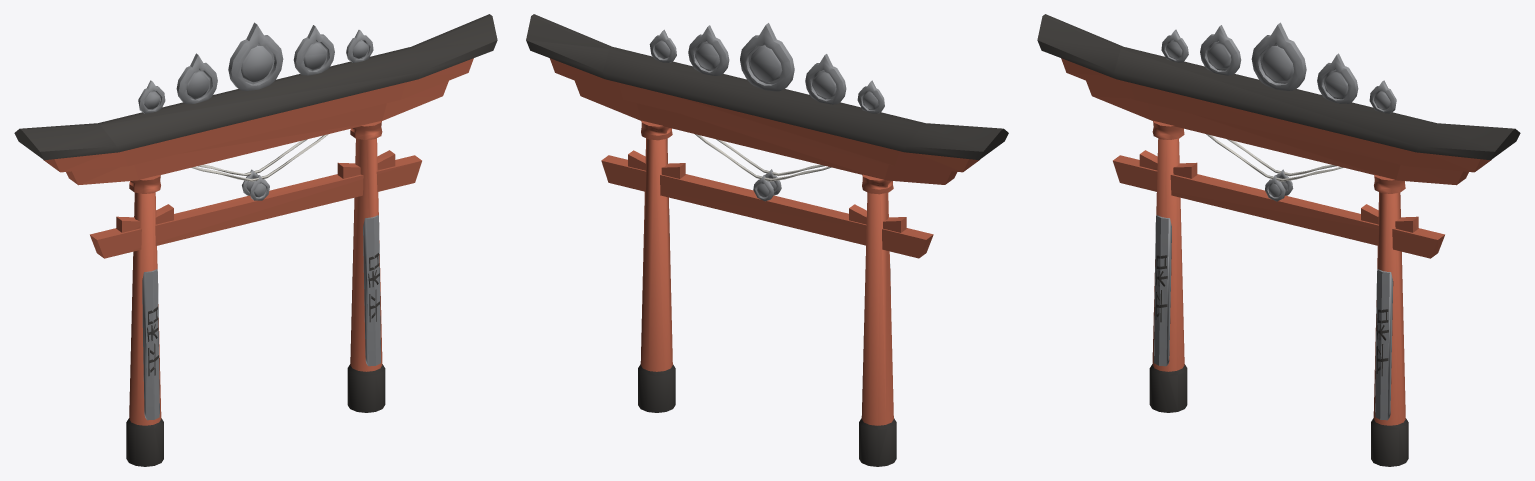
The model's file is jp_torii.glb.
The picture shows the model from 3 angles, left to right: view 1: azimuth 30°, elevation 25°; view 2: azimuth 150°, elevation 25°; view 3: azimuth 330°, elevation 25°; orthographic projection.
Parts seen in each view (by area): view 1: jp_torii; view 2: jp_torii; view 3: jp_torii.
Boxes of the visible parts, bbox=[...] form: jp_torii: bbox=[14, 14, 497, 466]; jp_torii: bbox=[526, 14, 1008, 466]; jp_torii: bbox=[1037, 14, 1520, 466].
Size of the model in its own units: 7.23 by 6 by 0.6838.
